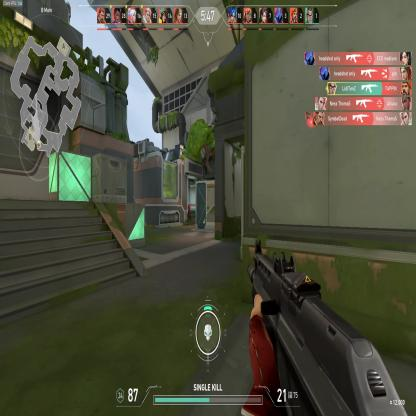enemy: (187, 201, 191, 221)
